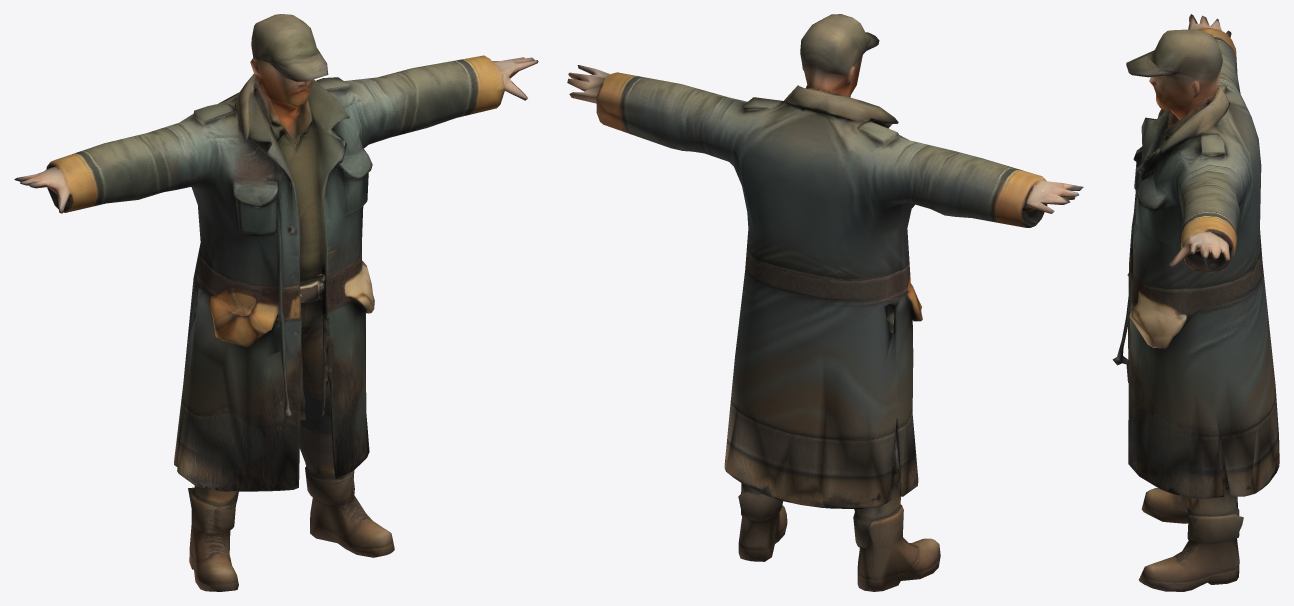
File: npc_foreman.glb
3 renders of one model, left to right at view 1: azimuth 30°, elevation 25°; view 2: azimuth 150°, elevation 25°; view 3: azimuth 270°, elevation 25°, orthographic. The views are drawn at different scales.
Bounding box in the file's own units: 1.99 × 2 × 0.586.
Materials: 1 (1 with a texture image).
